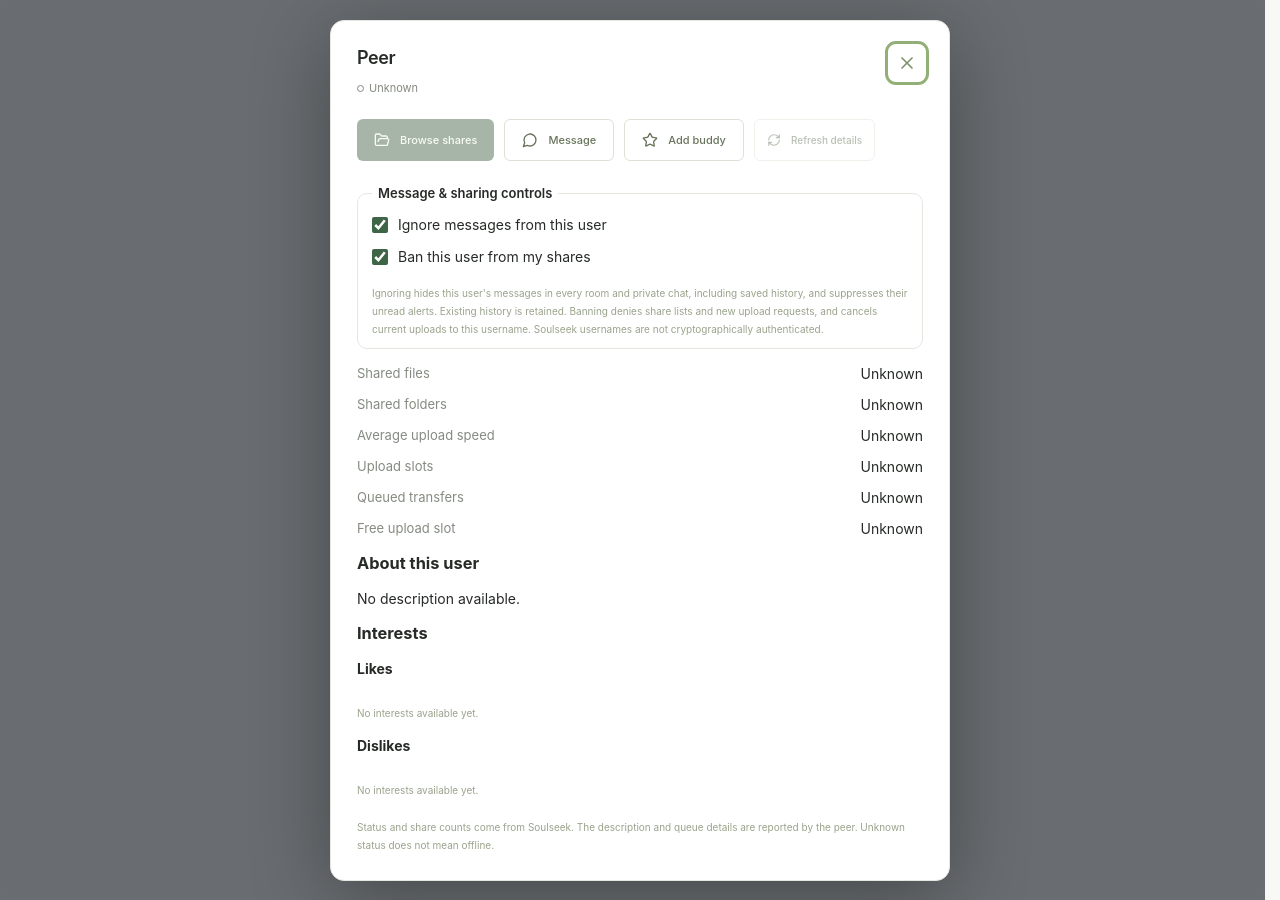
Test: shows ignore and share-ban controls immediately, preserves both choices and rolls back rejected saves
The width and height of the screenshot is (1280, 900).
Earlier steps of the test are not shown.
Check: the checkbox labelled "Ignore messages from this user" is enabled, box [372, 216, 388, 232]
Check: the checkbox labelled "Ignore messages from this user" is checked, box [372, 216, 388, 232]
Click the checkbox labelled "Ban this user from my shares" at coordinates (380, 256), box [372, 248, 388, 264]
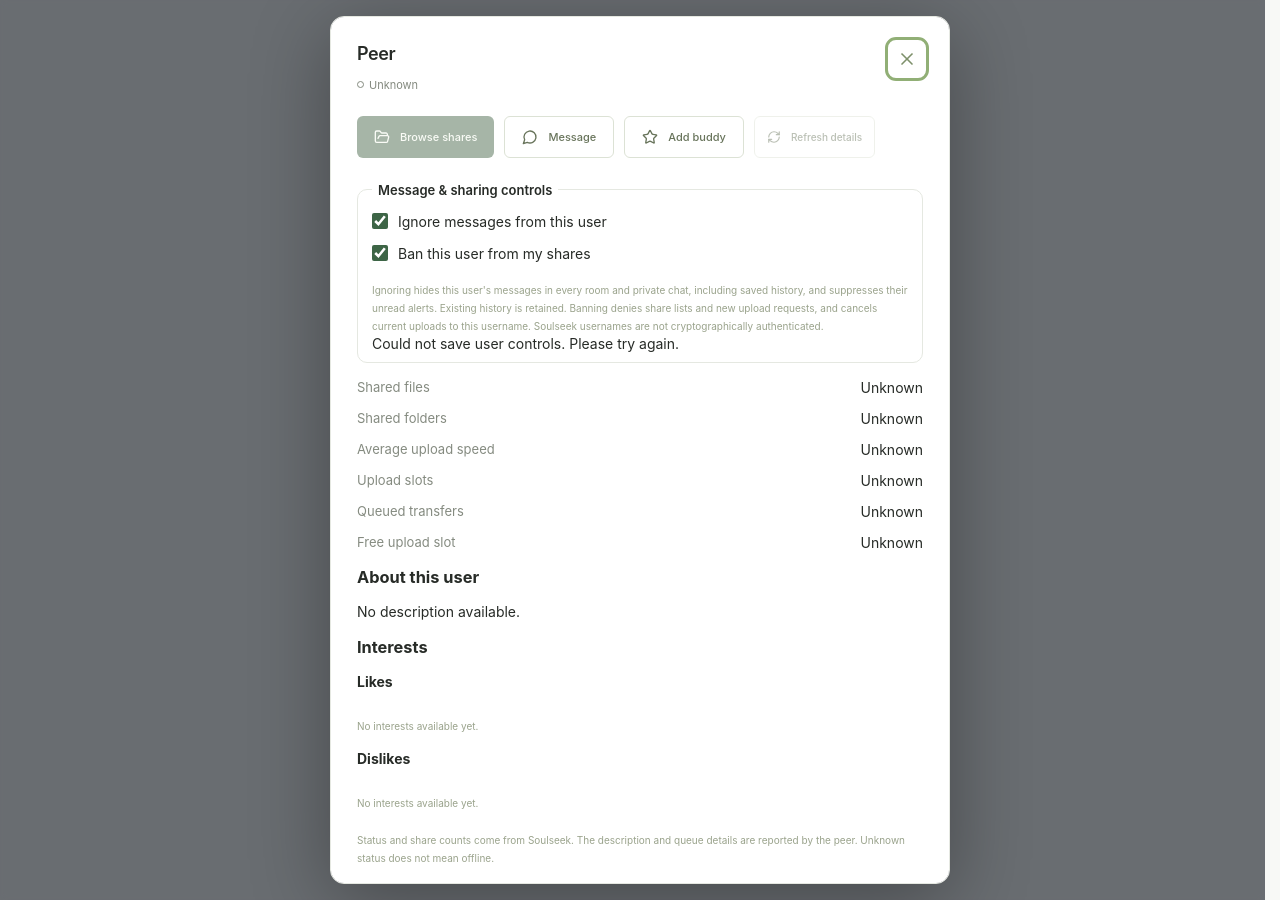
Check: the checkbox labelled "Ignore messages from this user" is checked, box [372, 213, 388, 229]
Check: the message shows "Could not save", box [372, 334, 679, 352]
